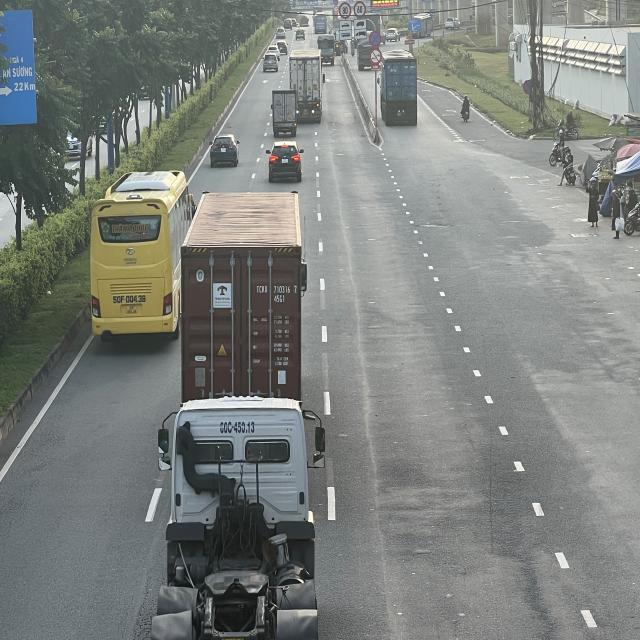car: (267, 141, 305, 183), (208, 136, 240, 170), (263, 55, 280, 74)
coach: (92, 167, 193, 341)
container: (162, 392, 330, 637), (186, 192, 311, 413), (378, 49, 420, 124), (290, 48, 324, 120)
truck: (272, 88, 298, 136)
